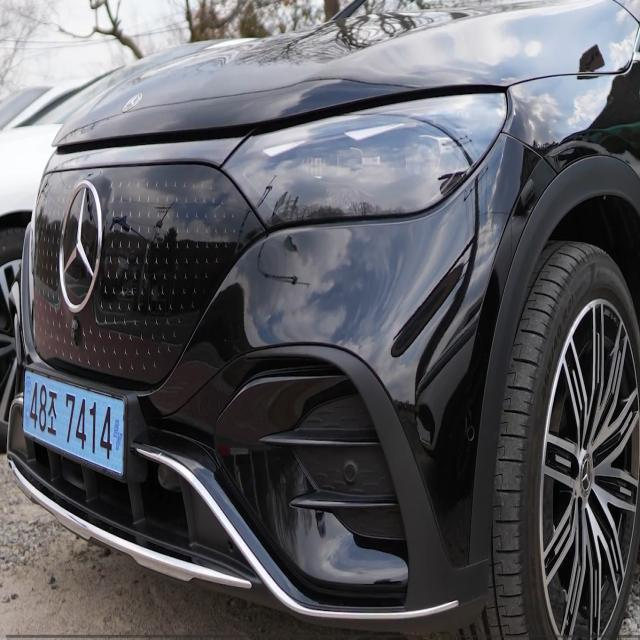car: (16, 363, 142, 485)
carev: (111, 393, 129, 480), (21, 369, 32, 443)
